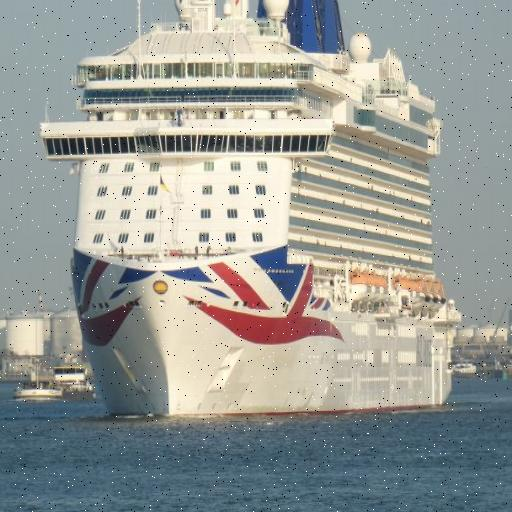cruises: (38, 1, 463, 430)
